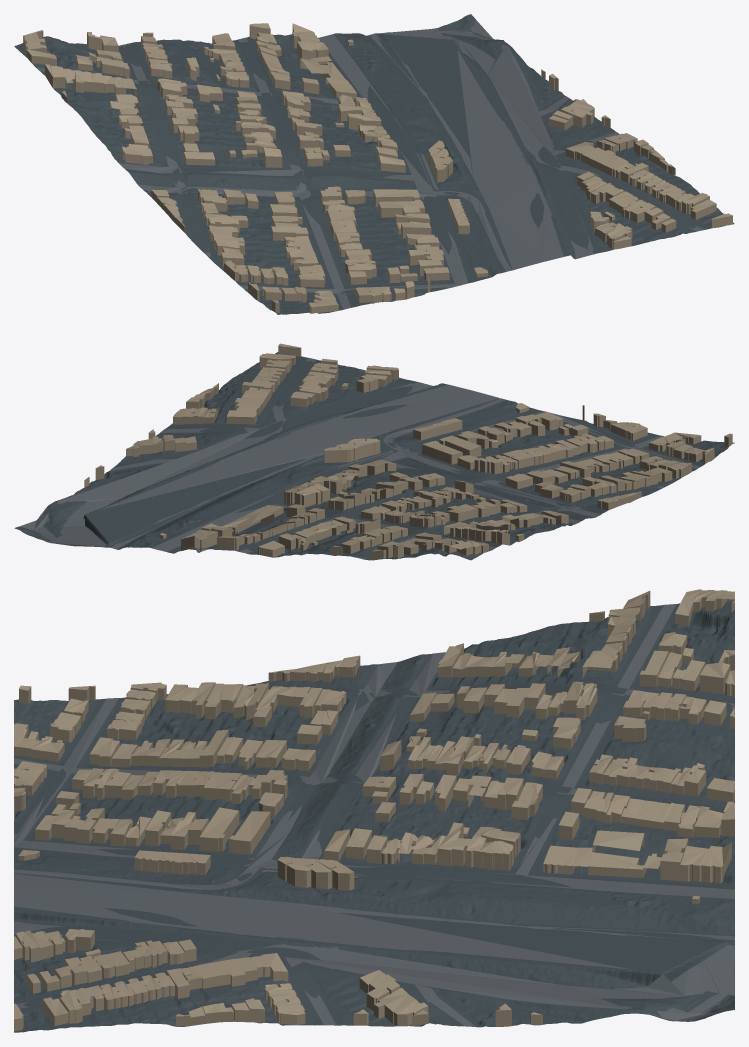
File: epsg26910-1439-10872.lod0.glb
3 renders of one model, top to bottom at view 1: azimuth 30°, elevation 25°; view 2: azimuth 150°, elevation 25°; view 3: azimuth 270°, elevation 25°, orthographic. The views are drawn at different scales.
Parts seen in each view (by area): view 1: epsg26910-1439-10872-lod0; view 2: epsg26910-1439-10872-lod0; view 3: epsg26910-1439-10872-lod0.
Part boxes in pixels (bbox=[...]): epsg26910-1439-10872-lod0: bbox=[14, 14, 734, 314]; epsg26910-1439-10872-lod0: bbox=[14, 343, 734, 560]; epsg26910-1439-10872-lod0: bbox=[14, 589, 734, 1032].
Bounding box in the file's own units: 384 × 84.73 × 384.
